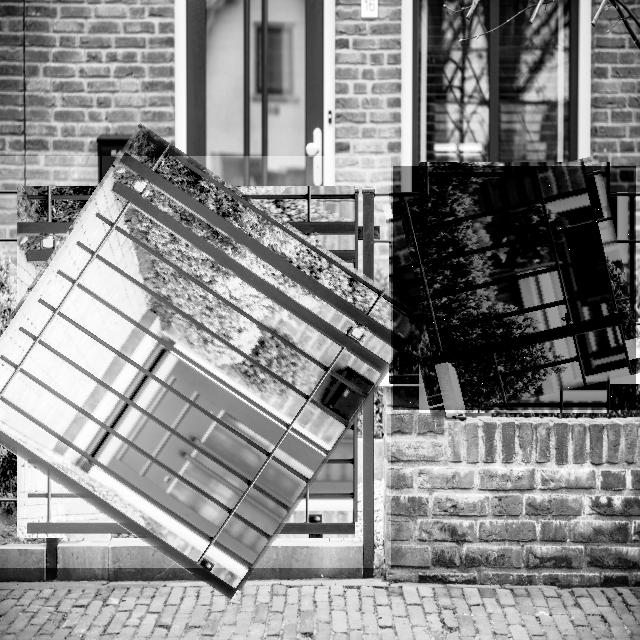fences: (0, 156, 391, 568), (393, 166, 636, 410)
